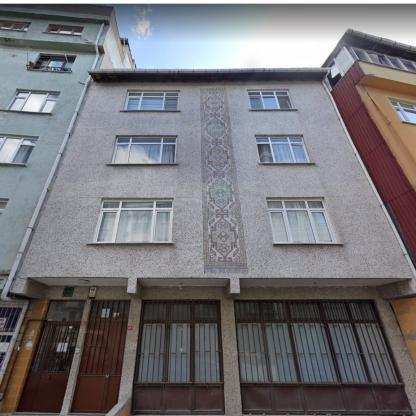door: (19, 323, 80, 412), (72, 320, 126, 412)
window: (237, 324, 400, 384), (137, 324, 220, 382), (96, 200, 172, 242), (266, 200, 334, 242), (235, 302, 376, 320), (113, 138, 176, 164), (353, 48, 415, 74), (256, 136, 310, 162), (0, 306, 22, 367), (144, 302, 216, 320), (6, 90, 60, 113), (0, 137, 37, 164), (124, 92, 178, 110), (248, 91, 294, 108), (46, 300, 84, 320), (89, 301, 129, 317), (391, 100, 415, 123), (36, 56, 75, 68), (0, 20, 29, 30), (48, 26, 82, 34)
